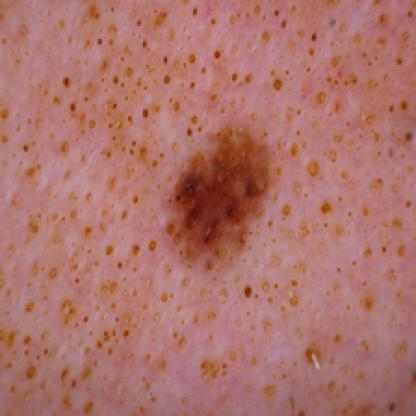benign: (145, 104, 340, 280)
